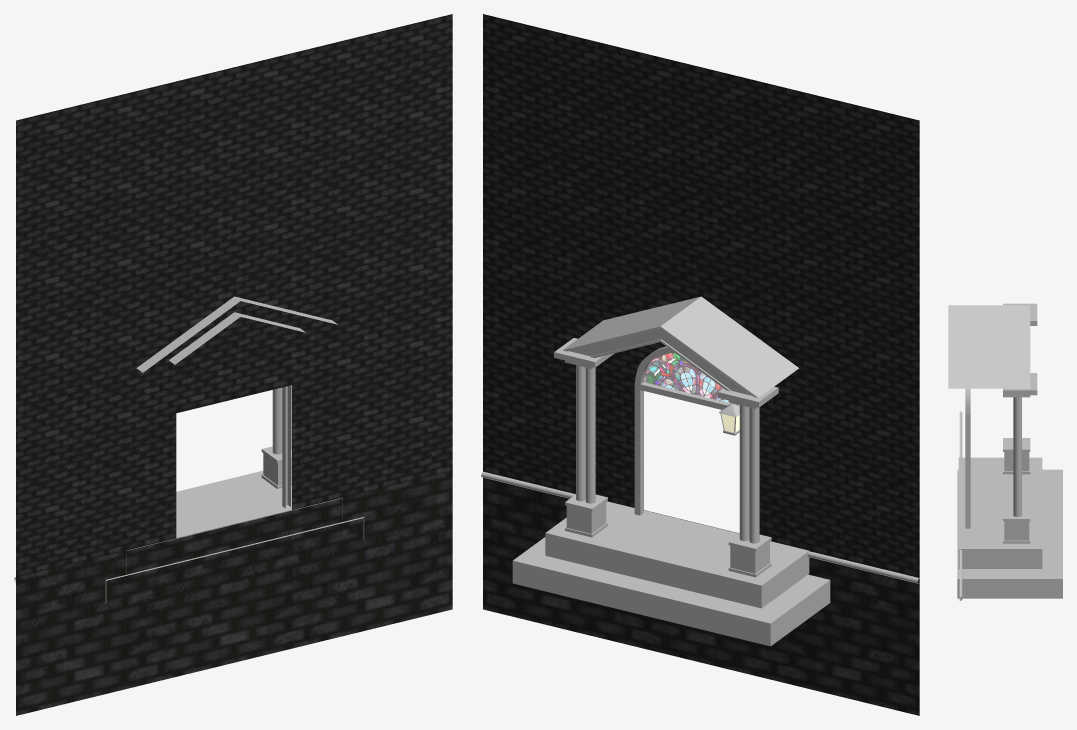
File: mainMenu.fbx
3 views of the same model, side by side, from view 1: azimuth 30°, elevation 25°; view 2: azimuth 150°, elevation 25°; view 3: azimuth 270°, elevation 25° (orthographic). The views are drawn at different scales.
Parts seen in each view (by area): view 1: wall, porch, doorframe; view 2: wall, porch, doorframe; view 3: porch, doorframe, wall.
Boxes of the visible parts, box(x1,y1,x2,y2) form: wall: box(14, 14, 452, 715); porch: box(105, 296, 364, 603); doorframe: box(282, 385, 290, 508); wall: box(481, 14, 919, 715); porch: box(512, 296, 830, 646); doorframe: box(634, 346, 739, 515); porch: box(948, 303, 1062, 598); doorframe: box(965, 388, 970, 528); wall: box(959, 411, 962, 600).
Size of the model in its own units: 800 by 1042 by 210.
